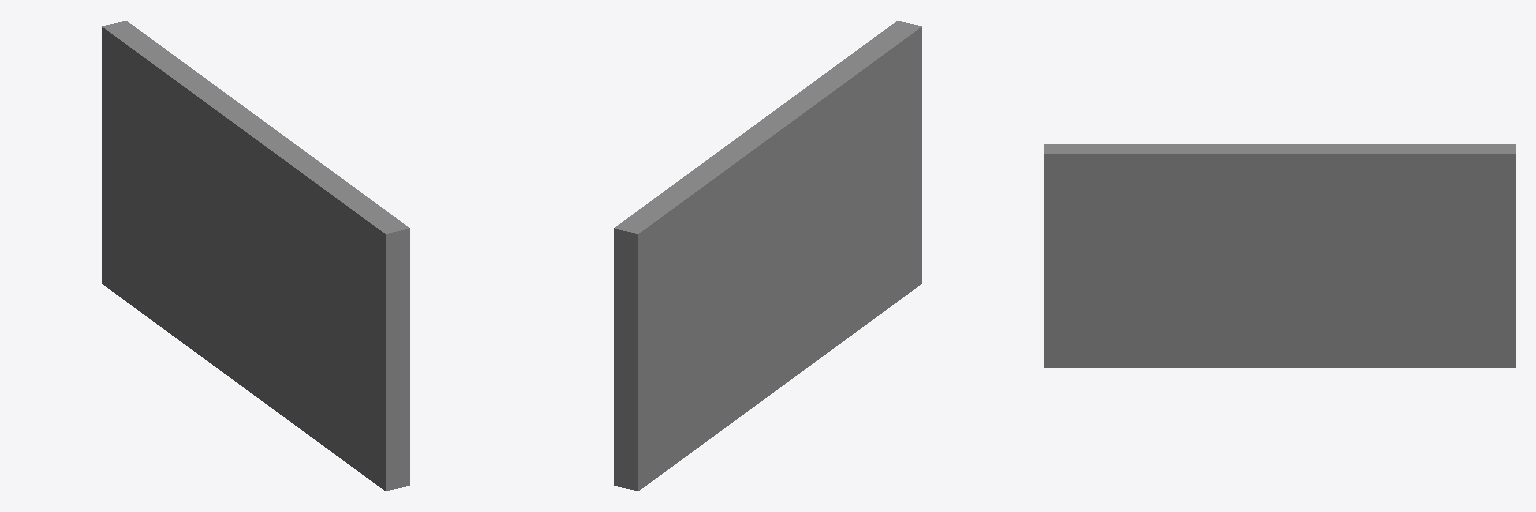
The robot description file, URDF, robot "wall_02":
<robot name="wall_02">
  <material name="paint"><color rgba="0.6 0.6 0.6 1" /></material>
  <link name="base">
    <inertial><origin xyz="0 0 0" rpy="0 0 0" /><mass value="2" /><inertia ixx="0.01" ixy="0" ixz="0" iyy="0.01" iyz="0" izz="0.01" /></inertial>
    <visual name="wall"><origin xyz="0 0 0.1" rpy="0 0 0" /><geometry><box size="0.02 0.4 0.2" /></geometry><material name="paint" /></visual>
    <collision name="wall"><origin xyz="0 0 0.1" rpy="0 0 0" /><geometry><box size="0.02 0.4 0.2" /></geometry></collision>
  </link>
</robot>

--- Facts derived from the render (not from the file) ---
3 views of the same robot in one strip: view 1: azimuth 30°, elevation 25°; view 2: azimuth 150°, elevation 25°; view 3: azimuth 270°, elevation 25° (orthographic).
Robot: wall_02 — 1 links, 0 joints (none); root link base; default pose: all joints at 0.
Visible links, largest first — view 1: base; view 2: base; view 3: base.
Link boxes in pixels (bbox=[...]): base: bbox=[102, 21, 409, 490]; base: bbox=[614, 21, 921, 490]; base: bbox=[1044, 144, 1515, 367].
Bounding box of the posed robot: 0.02 × 0.4 × 0.2 m (x, y, z).
Geometry: primitives only (box / cylinder / sphere), no mesh files.
